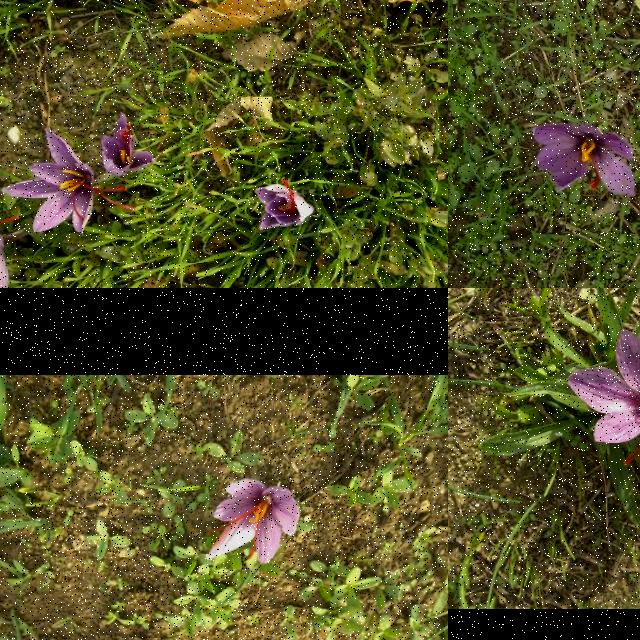flower: (1, 128, 134, 234), (566, 326, 640, 478), (532, 122, 638, 196), (207, 480, 301, 562), (100, 112, 154, 176), (256, 178, 314, 230)
